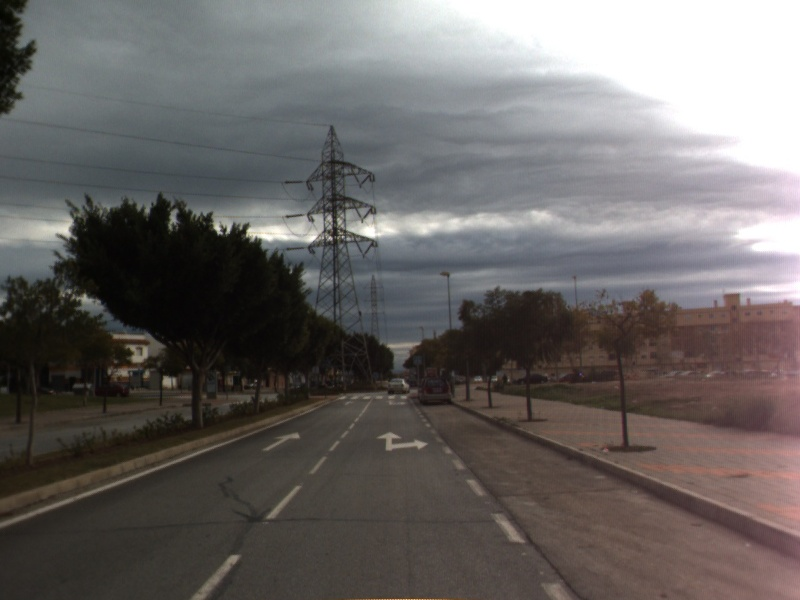STRAIGHT: (259, 430, 302, 453)
STRAIGHT_RIGHT: (374, 430, 430, 453)
